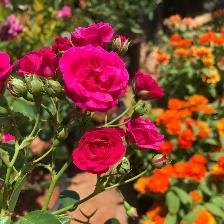rose: (59, 44, 132, 113), (73, 124, 126, 172), (122, 117, 166, 154), (18, 48, 60, 79), (134, 71, 167, 106), (72, 22, 115, 46)
